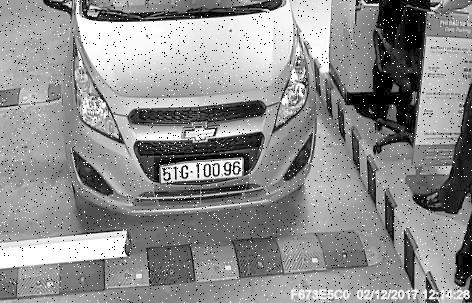License-plate: (155, 154, 250, 192)
